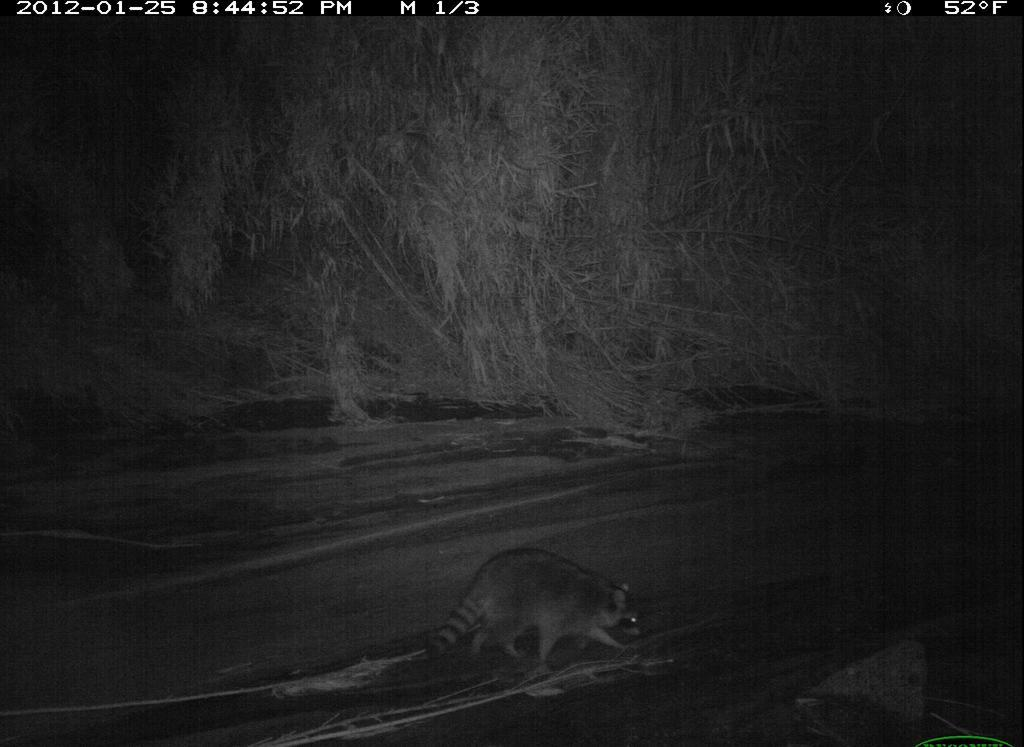raccoon: (417, 536, 658, 689)
